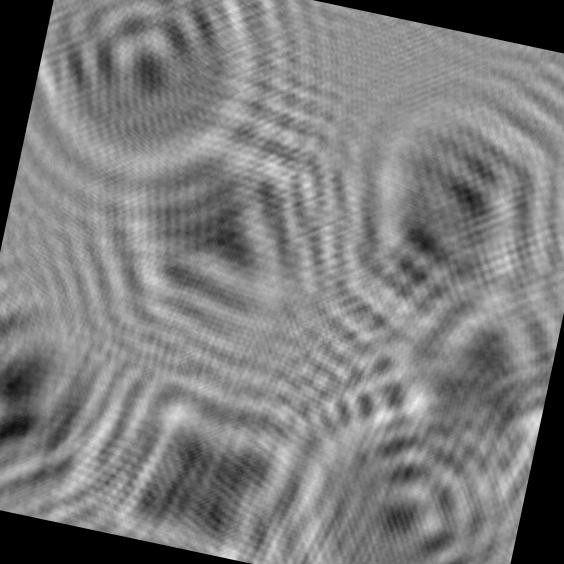U: (18, 0, 304, 218), (263, 355, 544, 564)
V: (54, 80, 372, 402)
W: (0, 269, 138, 529)
X: (55, 337, 352, 564)
Y: (343, 231, 564, 521)
Z: (300, 58, 564, 382)
